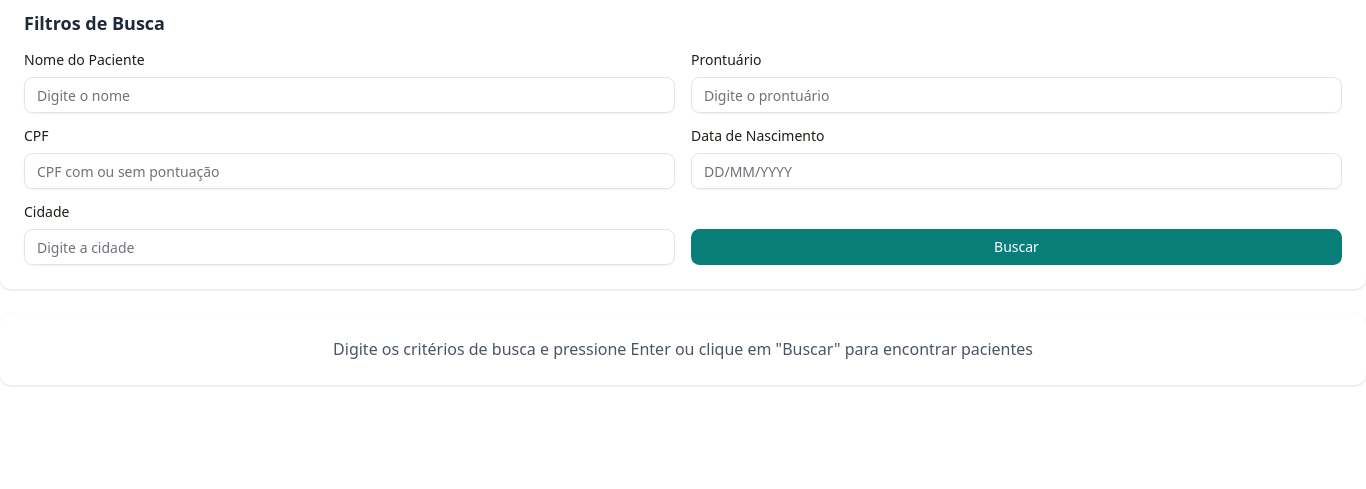
Scenario: mostra CPF 11122233344 em vez de e-mail no resumo de pacientes
Step 1. Type "Fictício" into the field labelled "Nome do Paciente" → (350, 95), box [24, 77, 675, 113]
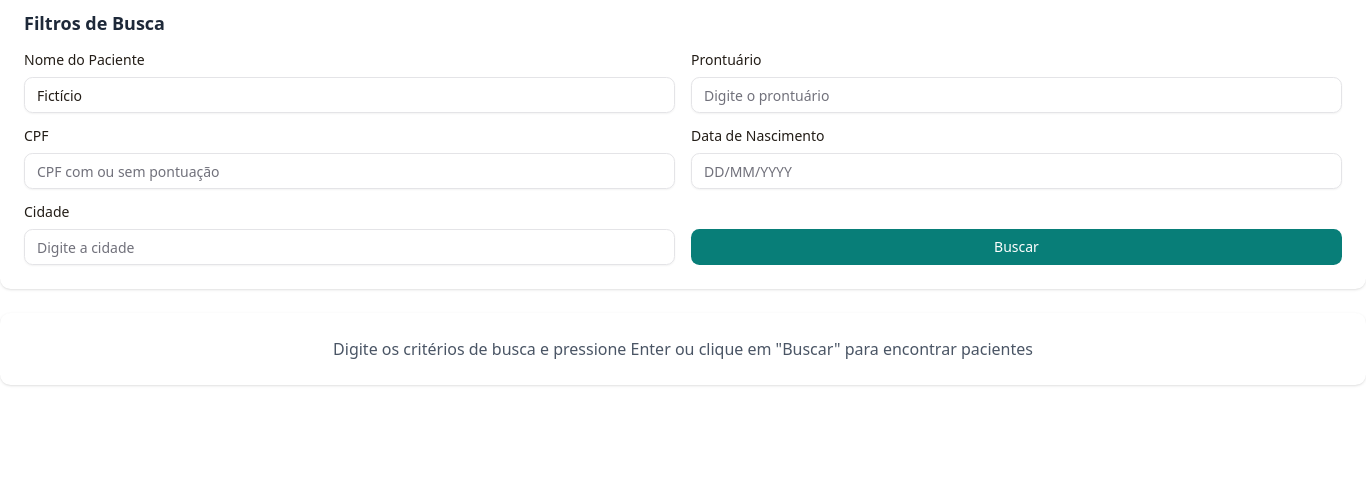
Step 2. Click the button "Buscar" → click(1016, 247), box [691, 229, 1342, 265]
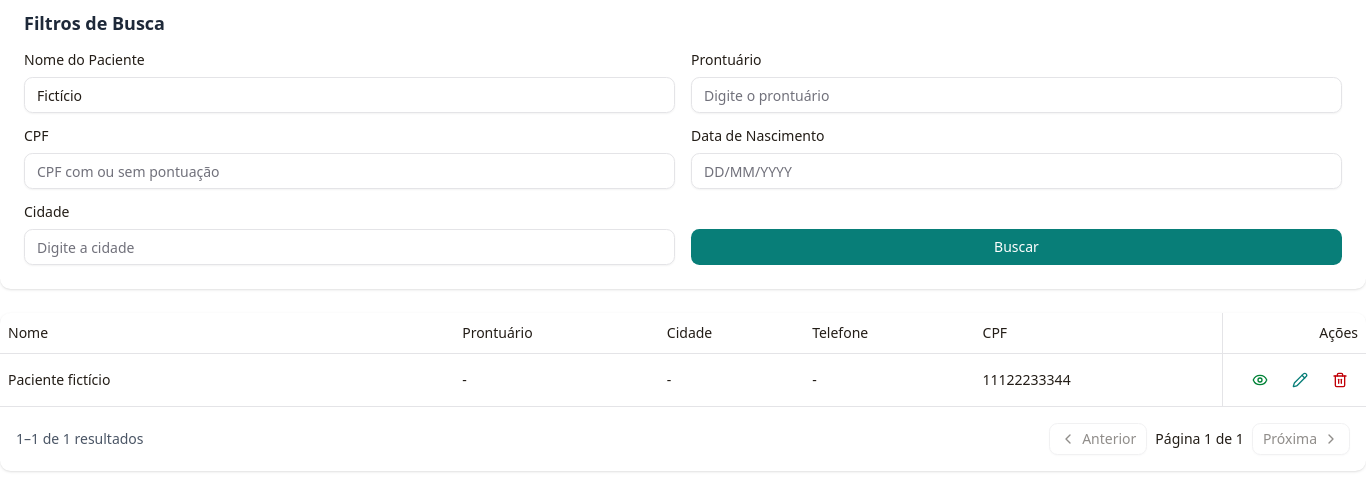
Result: the text "Paciente fictício" is shown at [0, 353, 454, 406]
Result: the column heading "CPF" is shown at [974, 313, 1222, 353]
Result: the cell "11122233344" is shown at [974, 353, 1222, 406]
